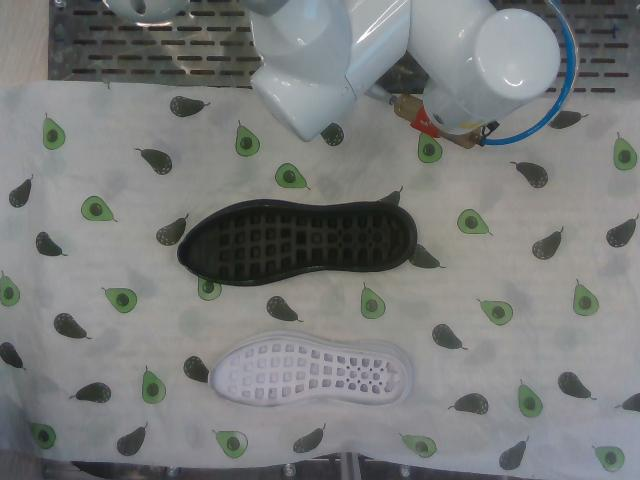shoes: (179, 206, 410, 281), (209, 338, 406, 407)
